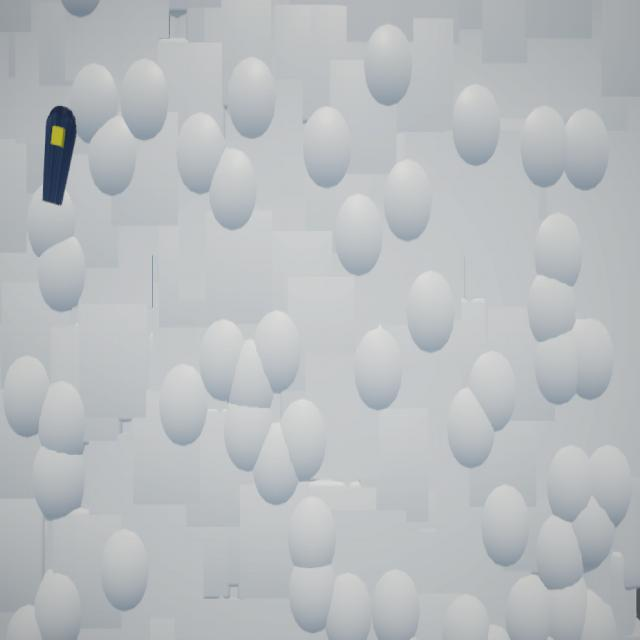handle_folk: (43, 107, 78, 207)
